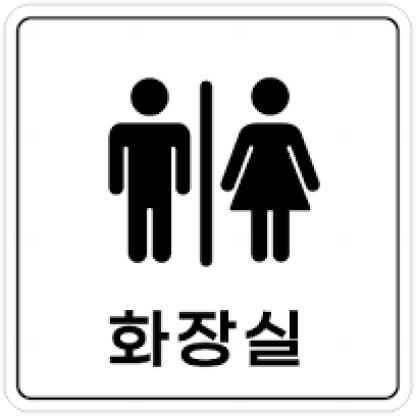toilet: (104, 75, 322, 266)
